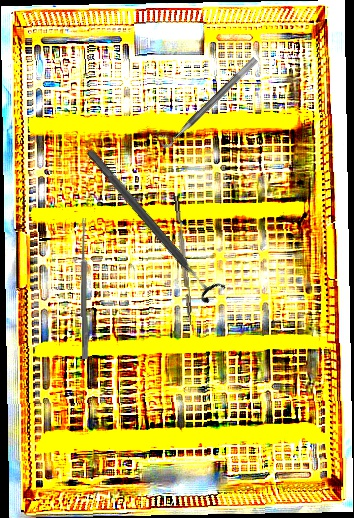Chopper: (173, 194, 200, 332)
Fixation Ring: (77, 140, 228, 308), (154, 49, 259, 151)
Surgical Spoon: (79, 217, 90, 360)
